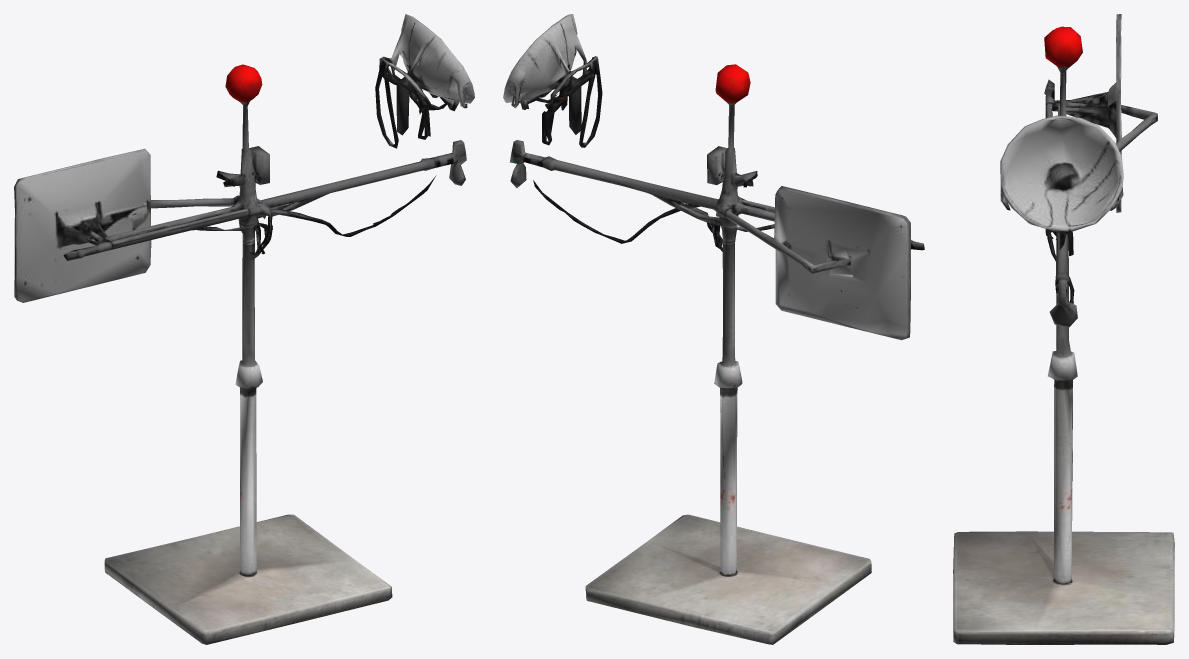
The model's file is roof_antenna.glb.
3 renders of one model, left to right at view 1: azimuth 30°, elevation 25°; view 2: azimuth 150°, elevation 25°; view 3: azimuth 270°, elevation 25°, orthographic. The views are drawn at different scales.
Visible parts, largest first — view 1: roof_antenna; view 2: roof_antenna; view 3: roof_antenna.
Boxes of the visible parts, x1,y1,x2,y2 form: roof_antenna: [14, 14, 474, 644]; roof_antenna: [503, 14, 924, 644]; roof_antenna: [953, 14, 1174, 644].
Bounding box in the file's own units: 5.1 × 6 × 2.12.
Materials: 1 (1 with a texture image).
